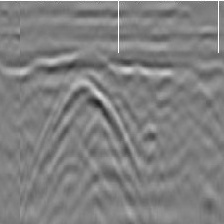Utility: (32, 73, 144, 198)
